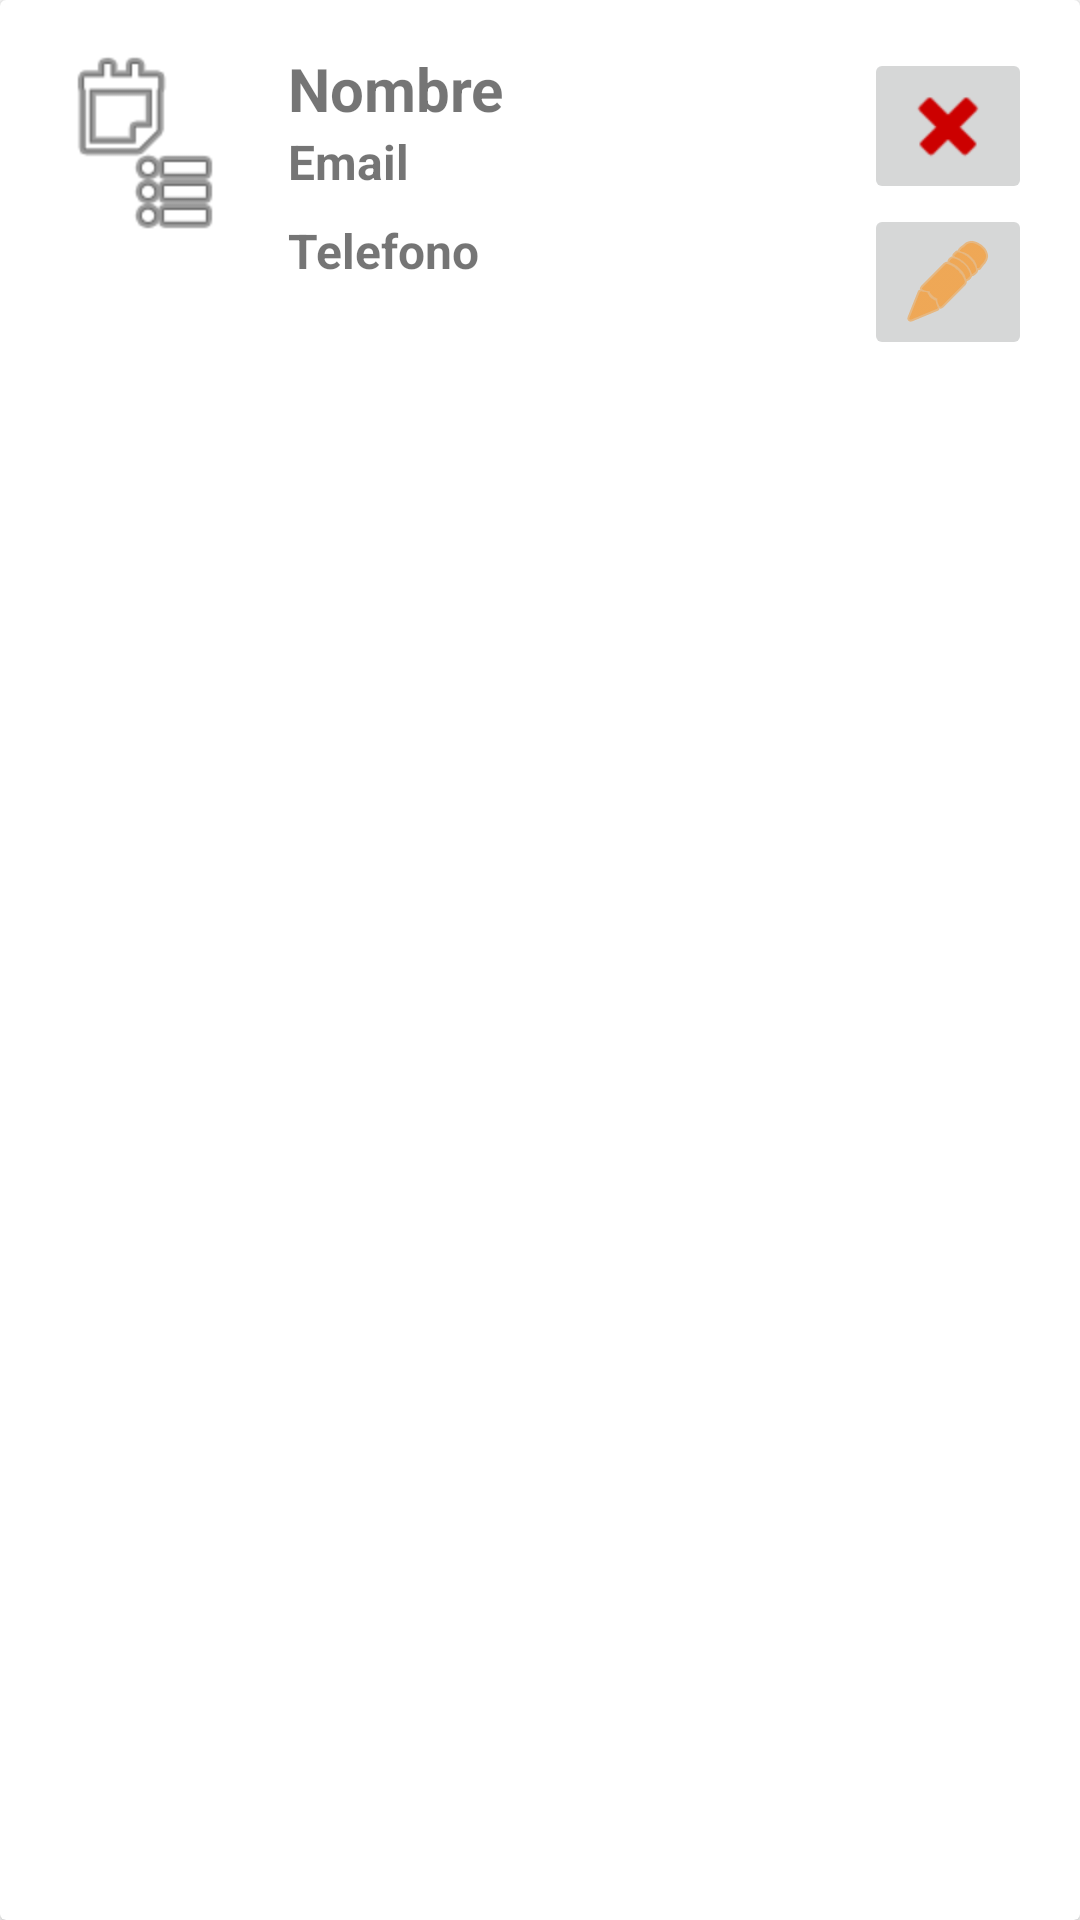

Icon click points for this 1080px x 1920px phone screenshot, format (x,y):
agenda: (145,142)
delete: (948,126)
edit: (948,282)
